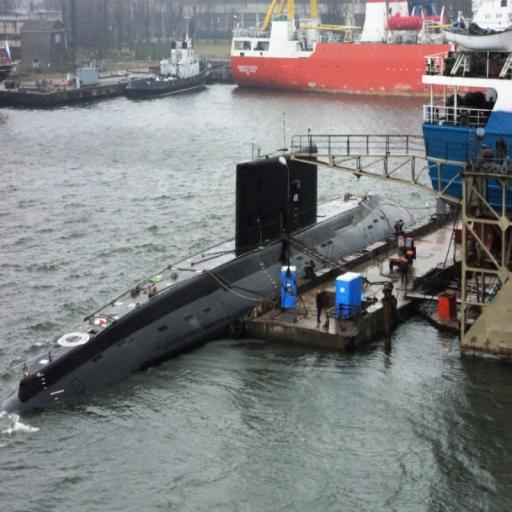submarine: (3, 140, 416, 418)
